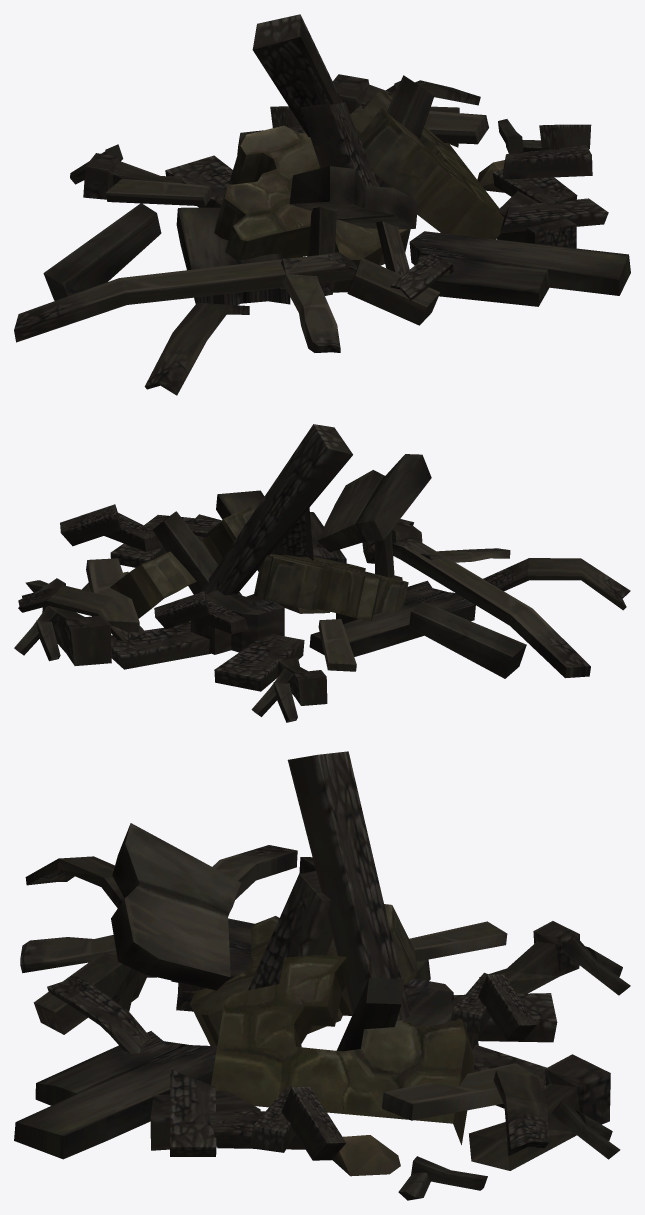
The model's file is debris_piles_burnt_02.fbx.
The picture shows the model from 3 angles, top to bottom: view 1: azimuth 30°, elevation 25°; view 2: azimuth 150°, elevation 25°; view 3: azimuth 270°, elevation 25°; orthographic projection. The views are drawn at different scales.
Parts seen in each view (by area): view 1: obj0.437; view 2: obj0.437; view 3: obj0.437.
Boxes of the visible parts, <box> form: obj0.437: <box>14,14,630,395</box>; obj0.437: <box>14,424,630,722</box>; obj0.437: <box>14,751,630,1200</box>.
Size of the model in its own units: 8.66 by 3.39 by 6.48.
